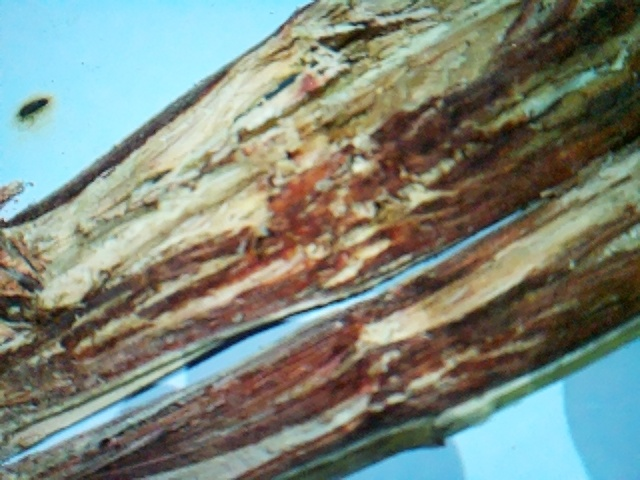Red-Rot: (3, 0, 638, 468)
